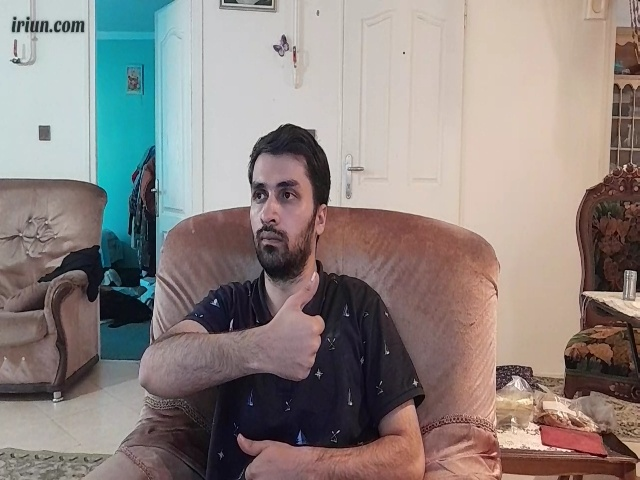ThumbsUp: (263, 270, 327, 386)
